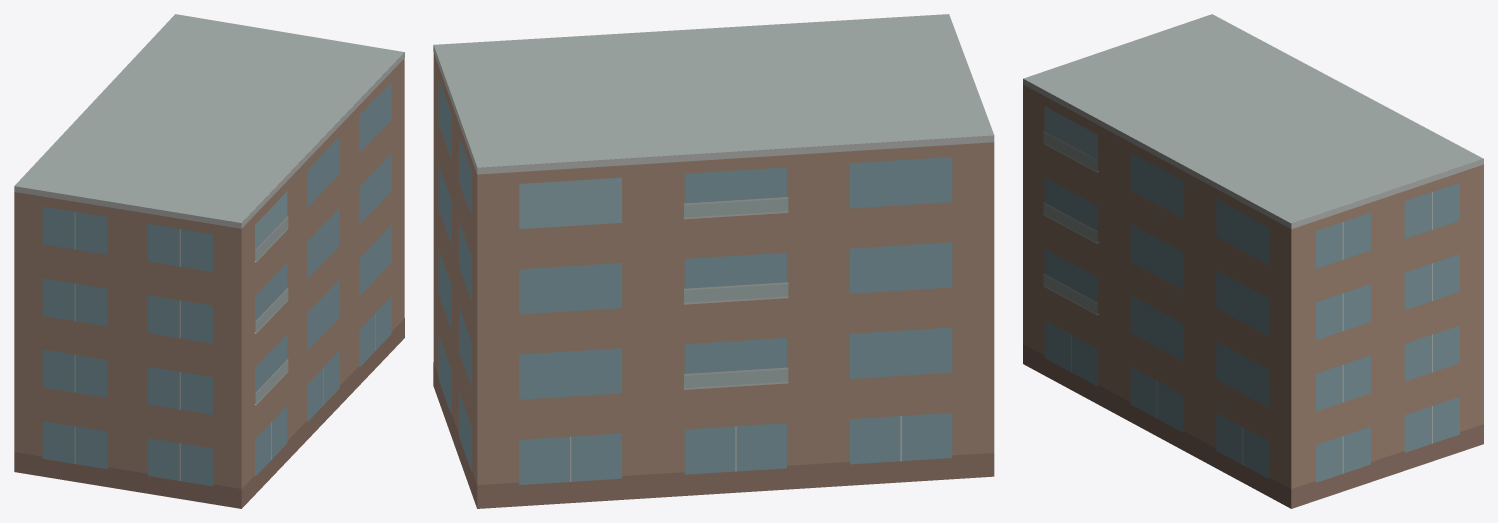
Rendered from survey-upis-32901537.glb.
The picture shows the model from 3 angles, left to right: view 1: azimuth 30°, elevation 25°; view 2: azimuth 150°, elevation 25°; view 3: azimuth 270°, elevation 25°; orthographic projection. The views are drawn at different scales.
Parts seen in each view (by area): view 1: survey-upis-32901537.tmp; view 2: survey-upis-32901537.tmp; view 3: survey-upis-32901537.tmp.
Part boxes in pixels (x1,y1,x2,y2): survey-upis-32901537.tmp: (14,14,404,508); survey-upis-32901537.tmp: (433,14,994,508); survey-upis-32901537.tmp: (1023,14,1483,508).
Bounding box in the file's own units: 19.23 × 12.2 × 17.87.
